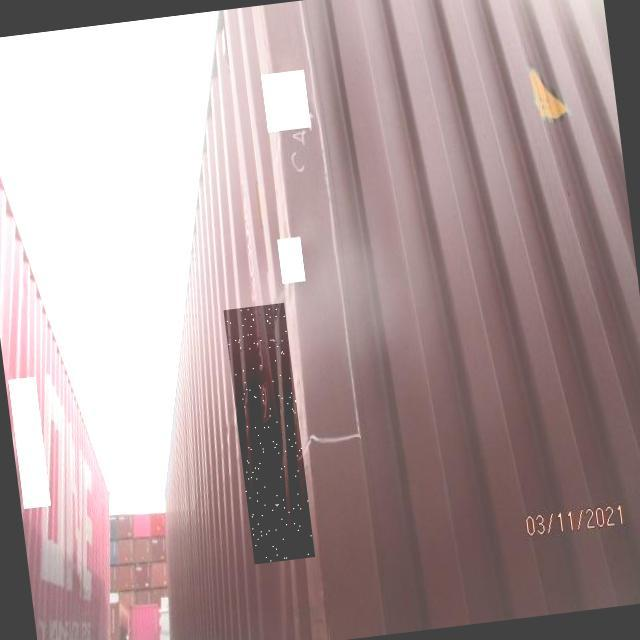Dent: (223, 303, 315, 565)
